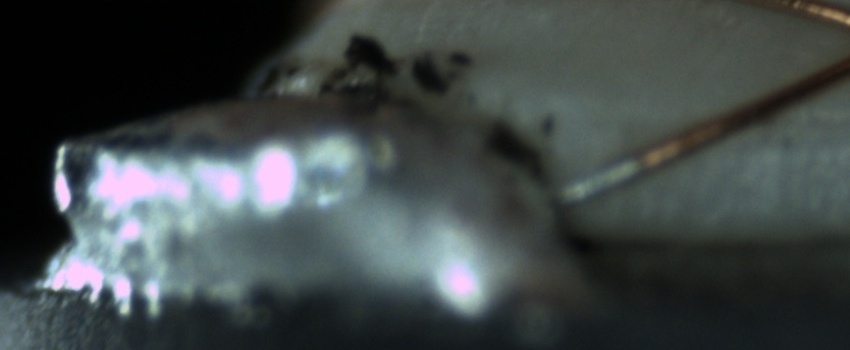DL: (765, 88, 850, 164)
TS: (552, 155, 642, 211)
